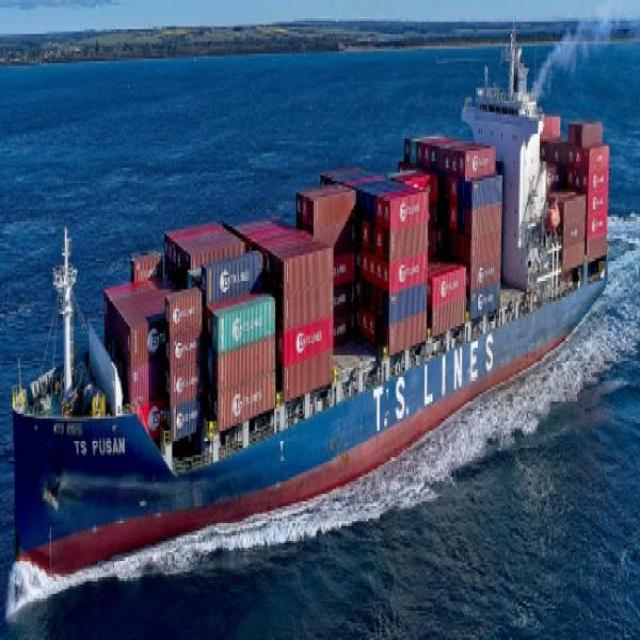Cargo: (11, 35, 608, 597)
